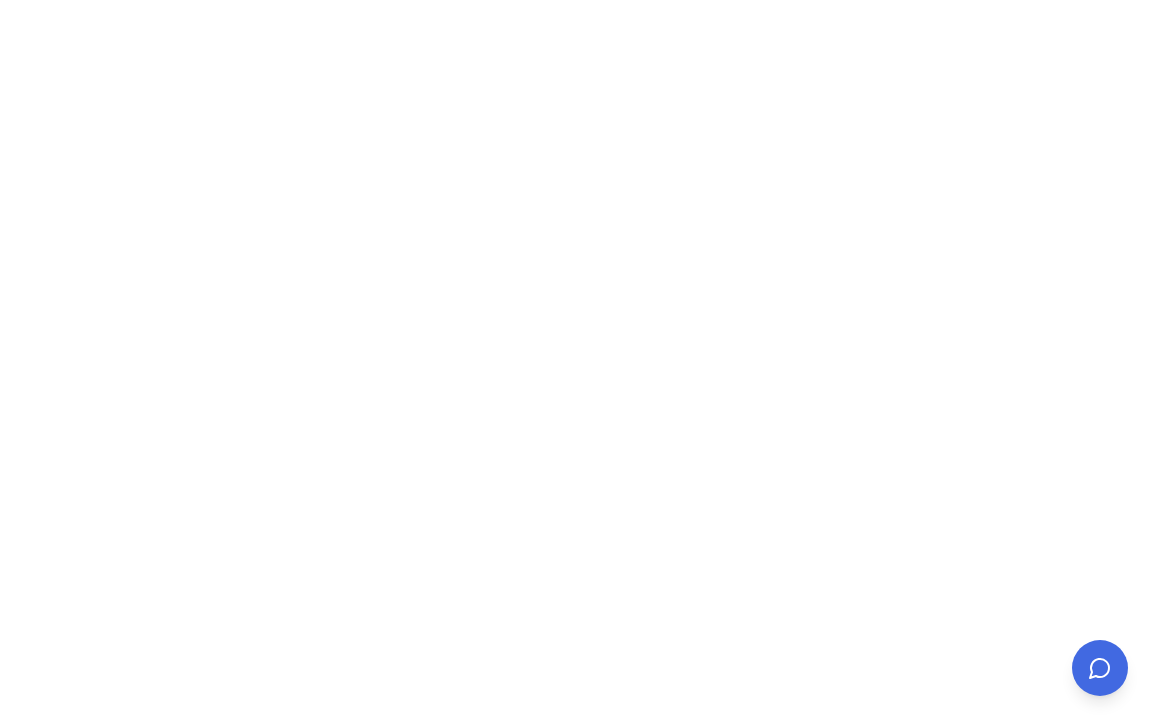
Test case: E2E: Chatbot Component › shows contact form when button is clicked
The width and height of the screenshot is (1152, 720).
Click the button named "Open chat" at (1100, 668), box 1072,640 -> 1128,696
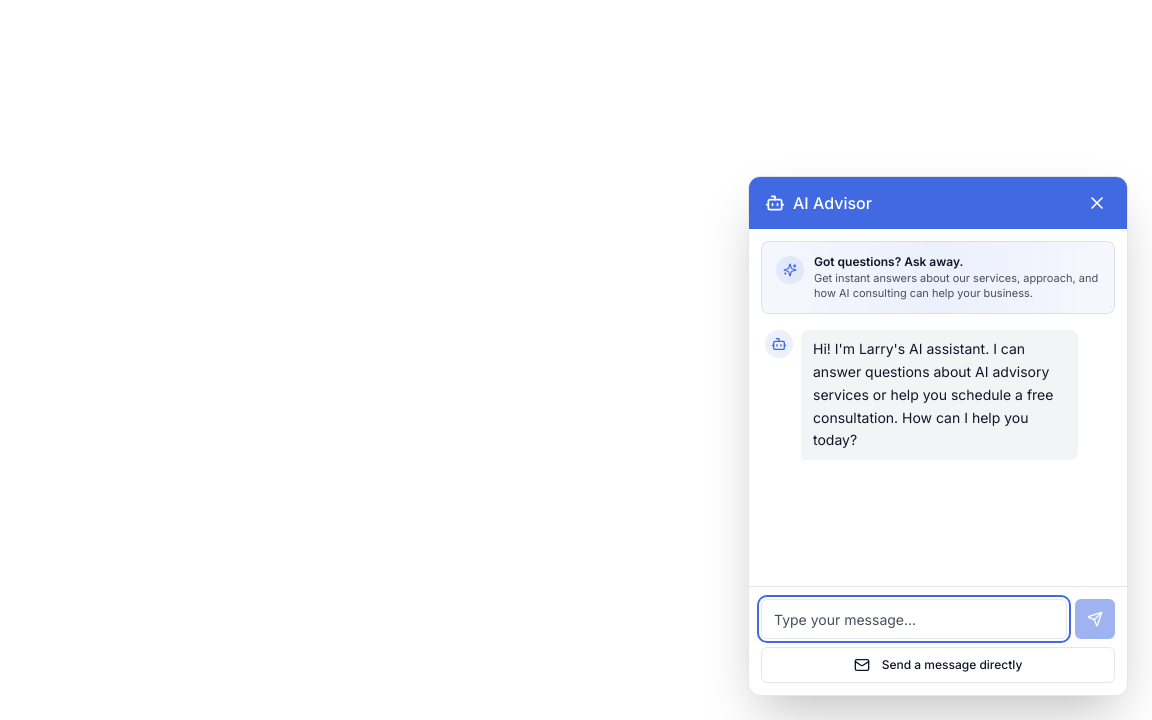
Click the button "Send a message directly" at (938, 665), box 761,647 -> 1115,683
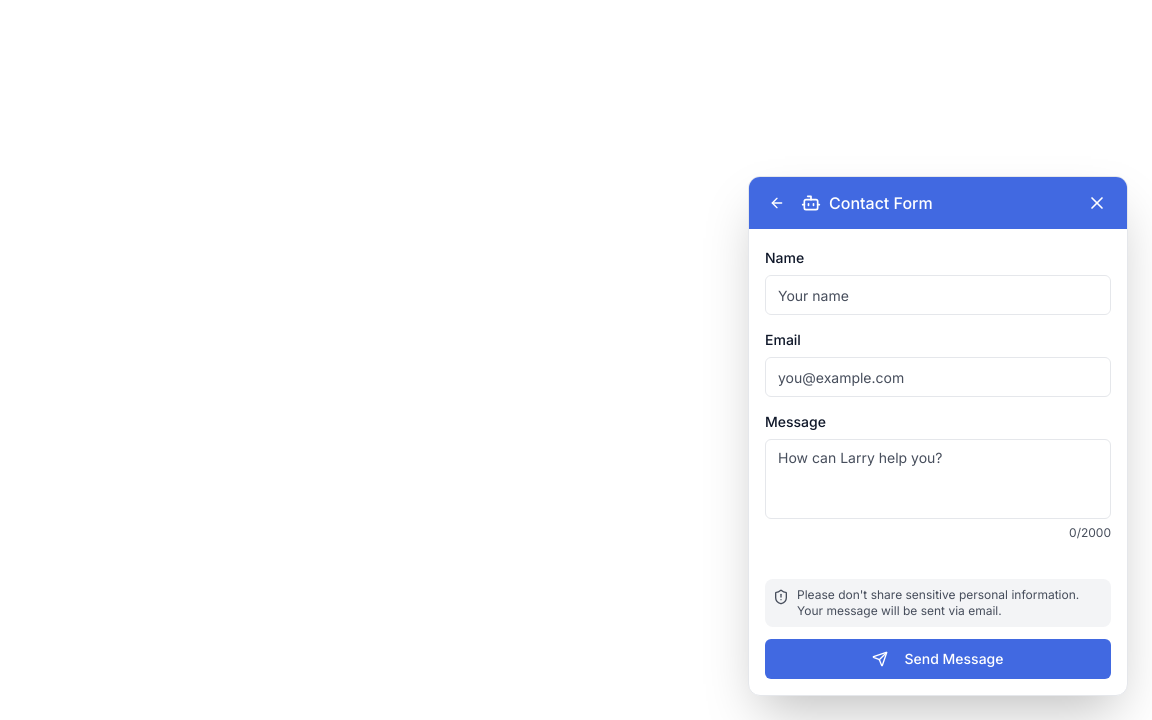
Check: the text "Contact Form" is shown, box 829,191 -> 933,215
Check: the field labelled "Name" is shown, box 765,275 -> 1111,315
Check: the field labelled "Email" is shown, box 765,357 -> 1111,397
